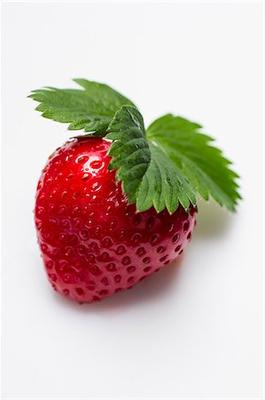strawberry: (0, 0, 265, 400)
